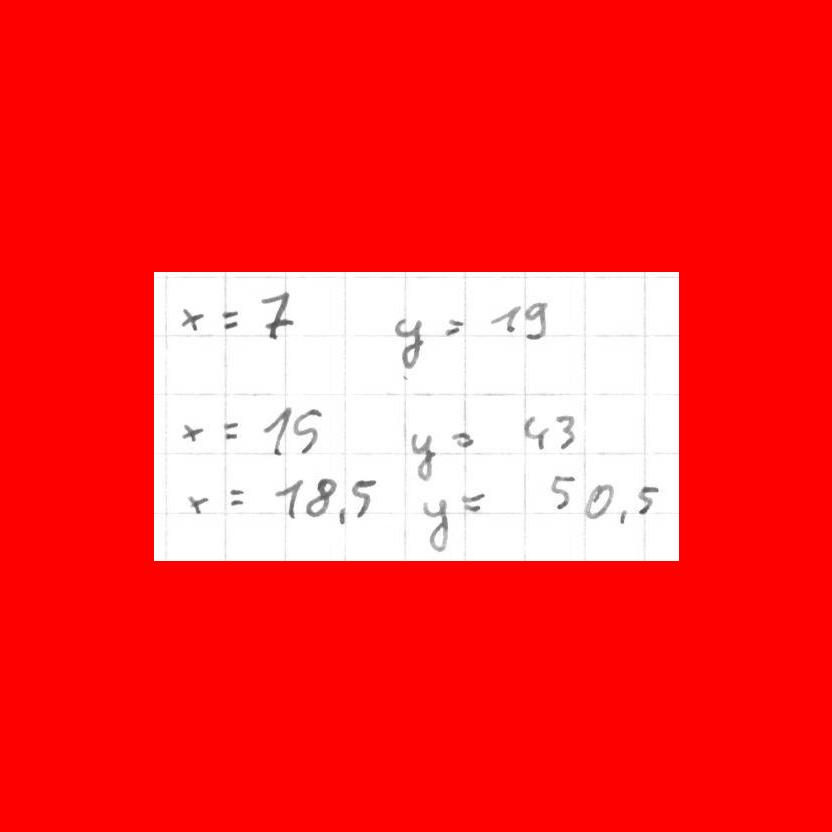Char: (258, 288, 293, 341), (393, 318, 427, 372), (421, 495, 450, 553), (261, 404, 292, 455), (292, 406, 324, 454), (304, 475, 337, 519), (411, 431, 438, 481), (274, 477, 304, 520), (549, 471, 577, 513), (584, 481, 613, 520), (350, 476, 375, 521), (522, 300, 547, 342), (486, 302, 519, 333), (523, 414, 549, 453), (553, 413, 576, 453), (635, 482, 658, 518), (460, 489, 486, 515), (178, 304, 202, 332), (186, 492, 211, 516), (218, 307, 241, 331), (443, 314, 465, 338), (220, 417, 242, 441), (179, 421, 201, 445), (450, 431, 475, 449), (227, 487, 247, 506), (615, 507, 629, 527), (337, 505, 347, 525)
